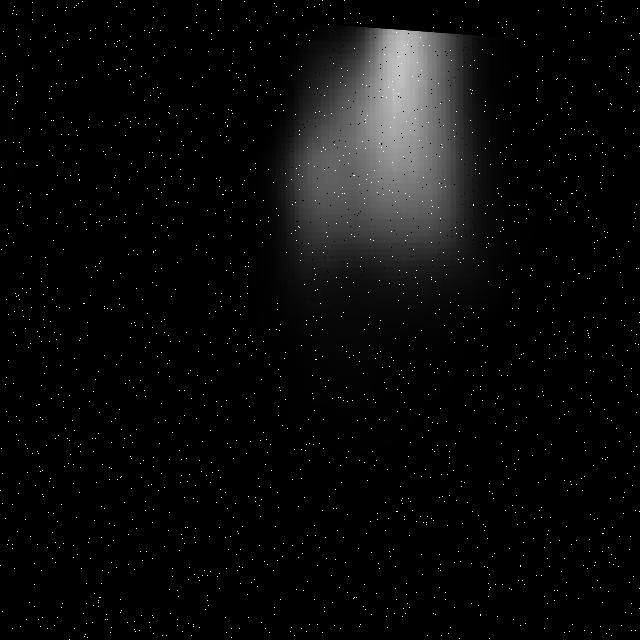person: (201, 14, 557, 482)
